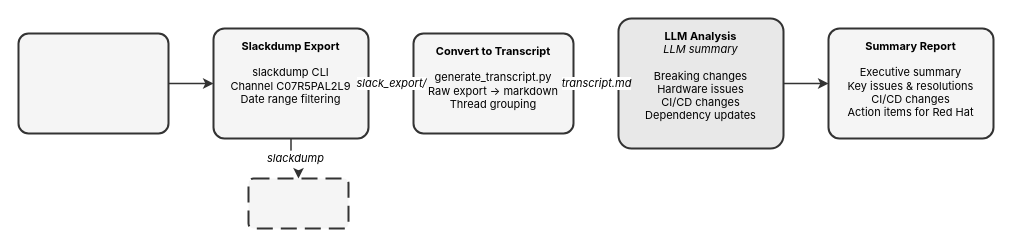
Image size: 1011x246. Some labels were removed from this diagram. The shapes that lost their labels are listed below. From the top down, each one's centre as x and y in pixels, then its label:
the point at 93,83: /vllm-slack-summary --days N (default: 7) --output-dir (optional)
the point at 298,203: Slack (vLLM CI SIG)
